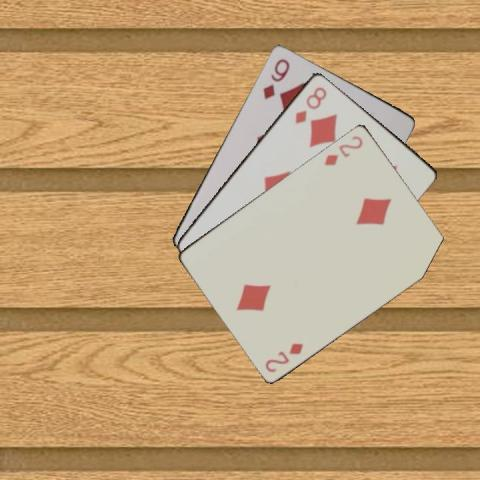2d: (320, 132, 364, 167), (262, 340, 305, 374)
8d: (291, 83, 329, 125)
9d: (260, 55, 292, 100)
